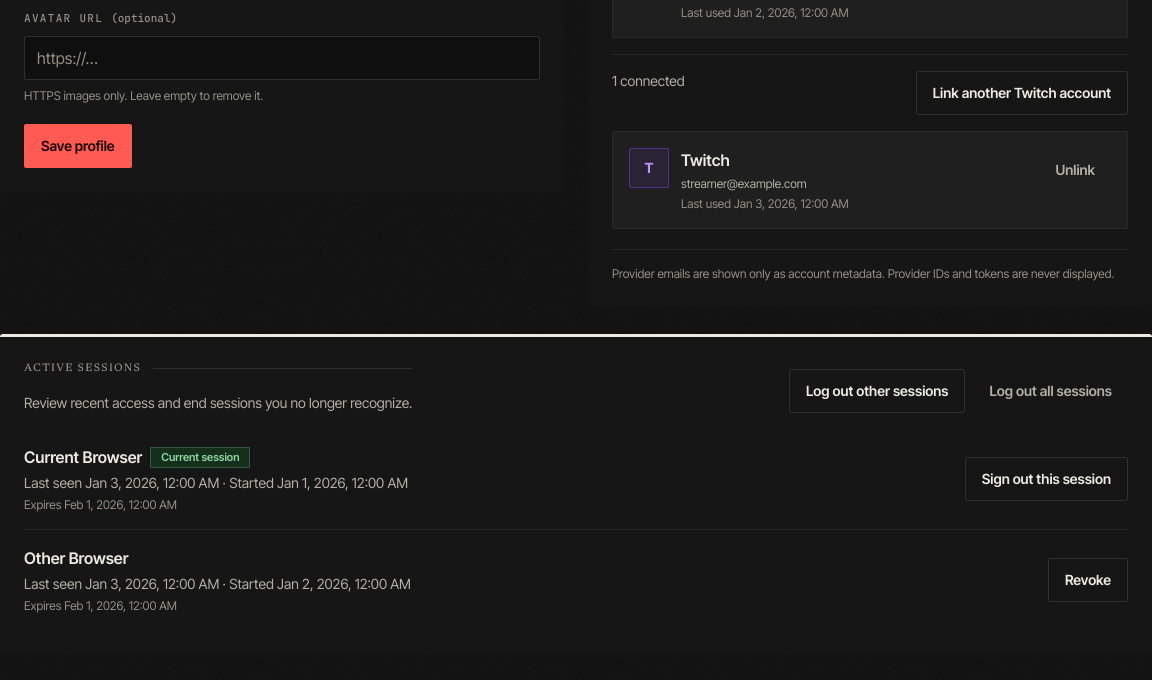
AccountPage › logs out other sessions with keep_current=true while retaining the current session
(page scrolled)
Expected: the text "Other Browser" is shown, [24,546,128,570]
Click the button "Log out other sessions". click: (877, 391)
box: [789,369,965,413]
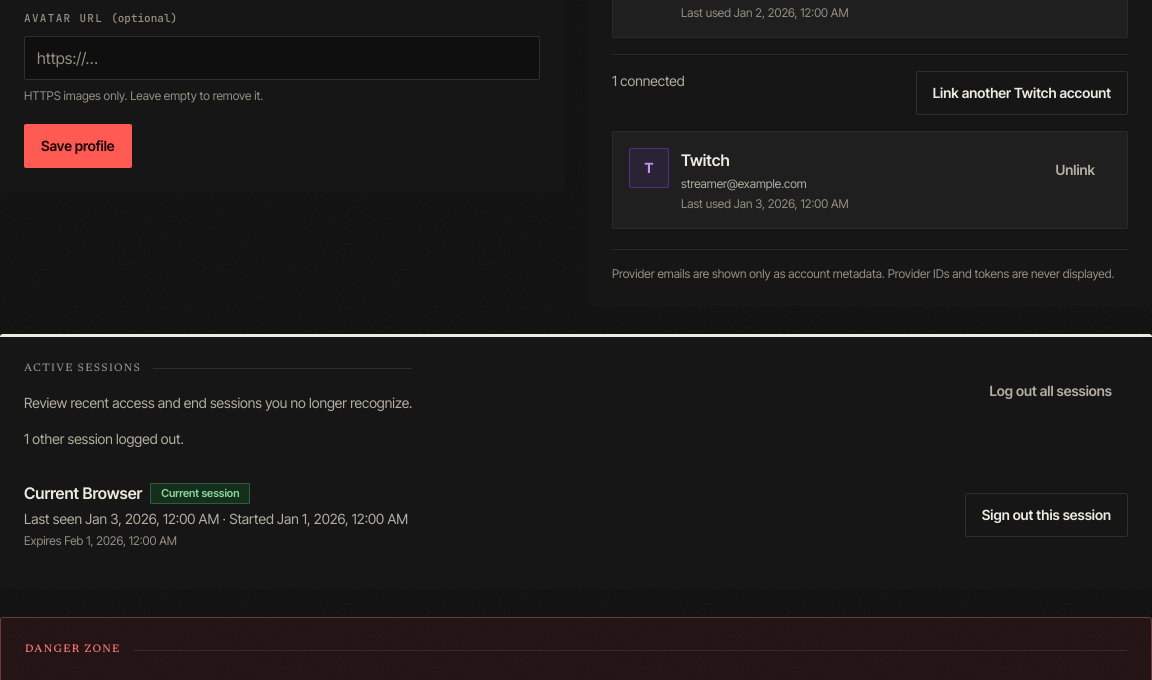
Expected: the text "Current Browser" is shown, [24,481,142,505]
Expected: the text "1 other session logged out." is shown, [24,430,184,447]
